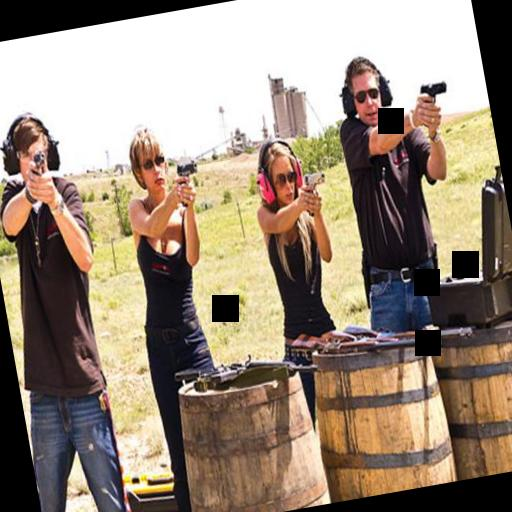Handgun: (298, 168, 329, 218), (416, 78, 450, 119), (172, 159, 202, 198), (25, 146, 49, 184)
